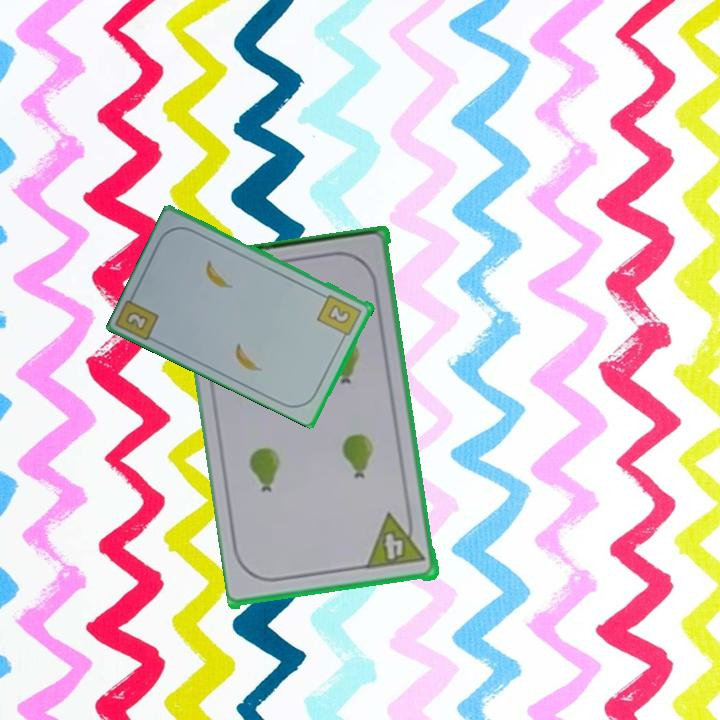2b: (314, 291, 365, 343), (122, 308, 152, 334)
4p: (364, 512, 410, 568)
